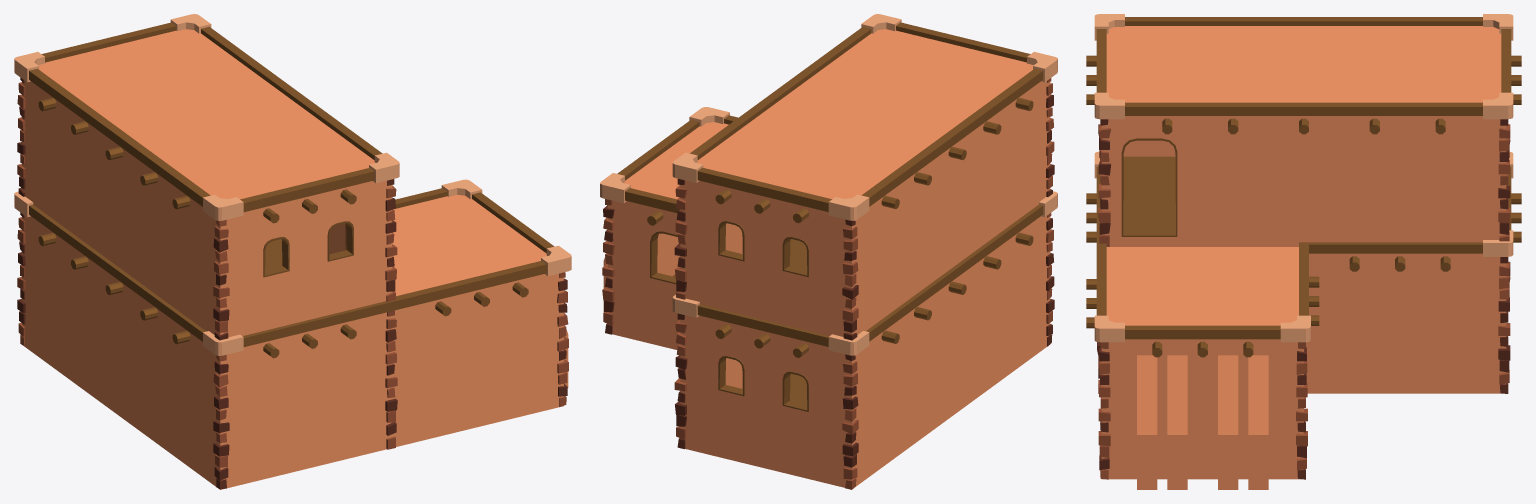
Rendered from House.004.fbx.
The picture shows the model from 3 angles, left to right: view 1: azimuth 30°, elevation 25°; view 2: azimuth 150°, elevation 25°; view 3: azimuth 270°, elevation 25°; orthographic projection. The views are drawn at different scales.
Parts seen in each view (by area): view 1: NewHouse.004; view 2: NewHouse.004; view 3: NewHouse.004.
Boxes of the visible parts, x1=… form: NewHouse.004: x1=14, y1=14, x2=571, y2=489; NewHouse.004: x1=600, y1=14, x2=1057, y2=489; NewHouse.004: x1=1086, y1=14, x2=1521, y2=489.
Bounding box in the file's own units: 8.8 × 6.35 × 8.6.
